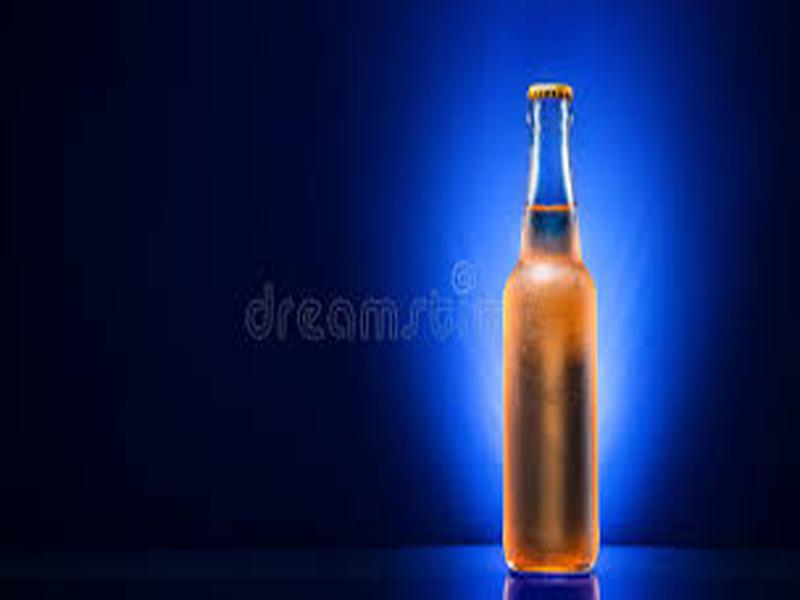Beer: (500, 83, 603, 571)
